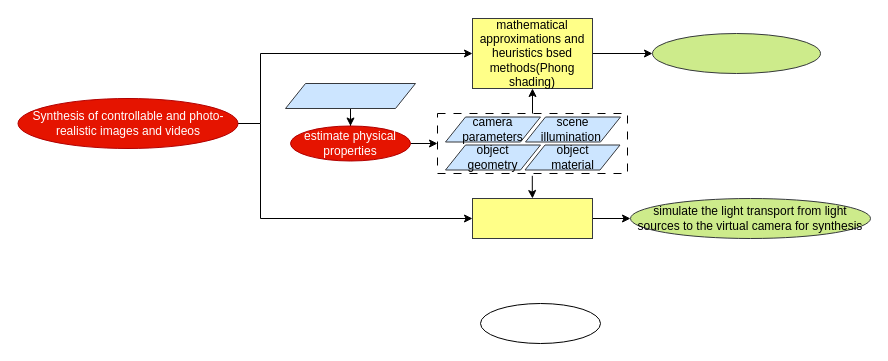
The diagram is 888 pixels wide and 361 high, and some of its shapes have lost their labels. The centre of each missing label's shape, as x and y in pixels:
"approximate the real-world image formation model" belongs at point (736, 53).
"image sequence, video" belongs at point (350, 95).
"nerual rendering" belongs at point (540, 323).
"physics-based rendering methods(ray tracing)" belongs at point (532, 218).
